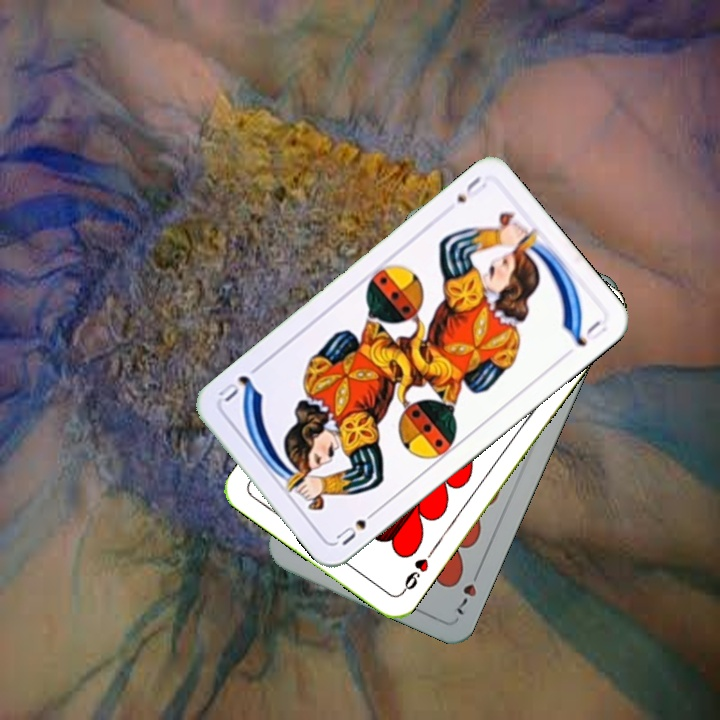H7: (452, 564, 483, 618)
H9: (397, 546, 437, 597)
SU: (331, 504, 382, 548), (452, 172, 490, 206)
